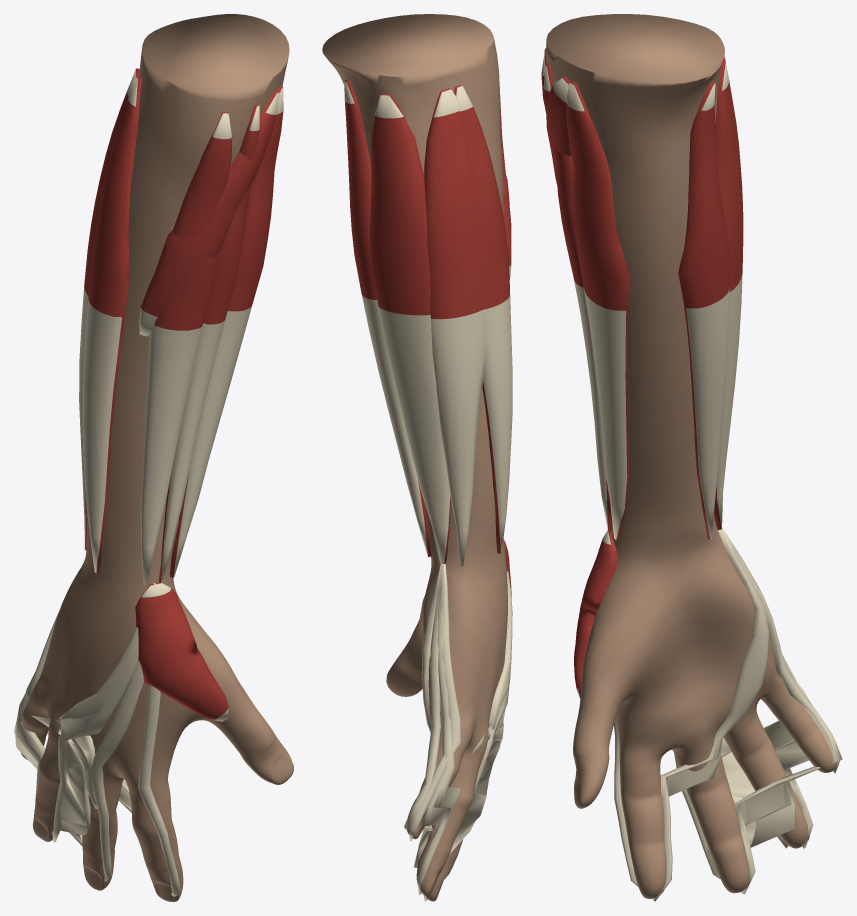
The model's file is right-forearm-and-hand-muscles.glb.
3 views of the same model, side by side, from view 1: azimuth 30°, elevation 25°; view 2: azimuth 150°, elevation 25°; view 3: azimuth 270°, elevation 25° (orthographic). The views are drawn at different scales.
Visible parts, largest first — view 1: MakeHuman CC0 | continuous fascial reference, Right flexor carpi radialis, Right brachioradialis, Right flexor carpi ulnaris, Right palmaris longus, Right thenar eminence, Right pronator teres, Right ring flexor tendon, Right middle flexor tendon, Right pinky flexor tendon, Right index flexor tendon, Right extensor carpi radialis (+1 smaller); view 2: MakeHuman CC0 | continuous fascial reference, Right extensor digitorum, Right extensor carpi radialis, Right brachioradialis, Right extensor carpi ulnaris, Right ring extensor tendon, Right pinky extensor tendon, Right middle extensor tendon, Right ring flexor tendon, Right pinky flexor tendon, Right index extensor tendon, Right pronator teres; view 3: MakeHuman CC0 | continuous fascial reference, Right flexor carpi ulnaris, Right extensor carpi ulnaris, Right extensor digitorum, Right index extensor tendon, Right middle extensor tendon, Right palmaris longus, Right thenar eminence, Right ring extensor tendon, Right pronator teres, Right ring flexor tendon, Right index flexor tendon.
Boxes of the visible parts, x1,y1,x2,y2 form: MakeHuman CC0 | continuous fascial reference: (21, 14, 293, 901); Right flexor carpi radialis: (140, 112, 232, 585); Right brachioradialis: (82, 76, 141, 573); Right flexor carpi ulnaris: (170, 86, 283, 577); Right palmaris longus: (158, 104, 259, 583); Right thenar eminence: (135, 582, 228, 721); Right pronator teres: (139, 91, 279, 336); Right ring flexor tendon: (52, 648, 138, 842); Right middle flexor tendon: (90, 659, 143, 881); Right pinky flexor tendon: (31, 583, 155, 808); Right index flexor tendon: (138, 685, 180, 896); Right extensor carpi radialis: (79, 68, 139, 550); MakeHuman CC0 | continuous fascial reference: (322, 14, 507, 901); Right extensor digitorum: (369, 93, 450, 563); Right extensor carpi radialis: (424, 88, 485, 566); Right brachioradialis: (454, 85, 512, 553); Right extensor carpi ulnaris: (344, 79, 431, 557); Right ring extensor tendon: (417, 567, 460, 894); Right pinky extensor tendon: (409, 563, 461, 841); Right middle extensor tendon: (404, 567, 441, 901); Right ring flexor tendon: (450, 685, 509, 853); Right pinky flexor tendon: (470, 571, 512, 754); Right index extensor tendon: (421, 564, 441, 732); Right pronator teres: (503, 175, 511, 279); MakeHuman CC0 | continuous fascial reference: (546, 14, 836, 898); Right flexor carpi ulnaris: (566, 81, 630, 539); Right extensor carpi ulnaris: (678, 81, 729, 540); Right extensor digitorum: (714, 56, 743, 529); Right index extensor tendon: (654, 529, 768, 901); Right middle extensor tendon: (723, 531, 842, 894); Right palmaris longus: (543, 63, 612, 531); Right thenar eminence: (574, 530, 617, 698); Right ring extensor tendon: (728, 539, 813, 848); Right pronator teres: (546, 76, 571, 184); Right ring flexor tendon: (720, 737, 788, 848); Right index flexor tendon: (613, 719, 654, 901).
Bounding box in the file's own units: 0.1166 × 0.4839 × 0.1498.
3 materials, 3 textured.
